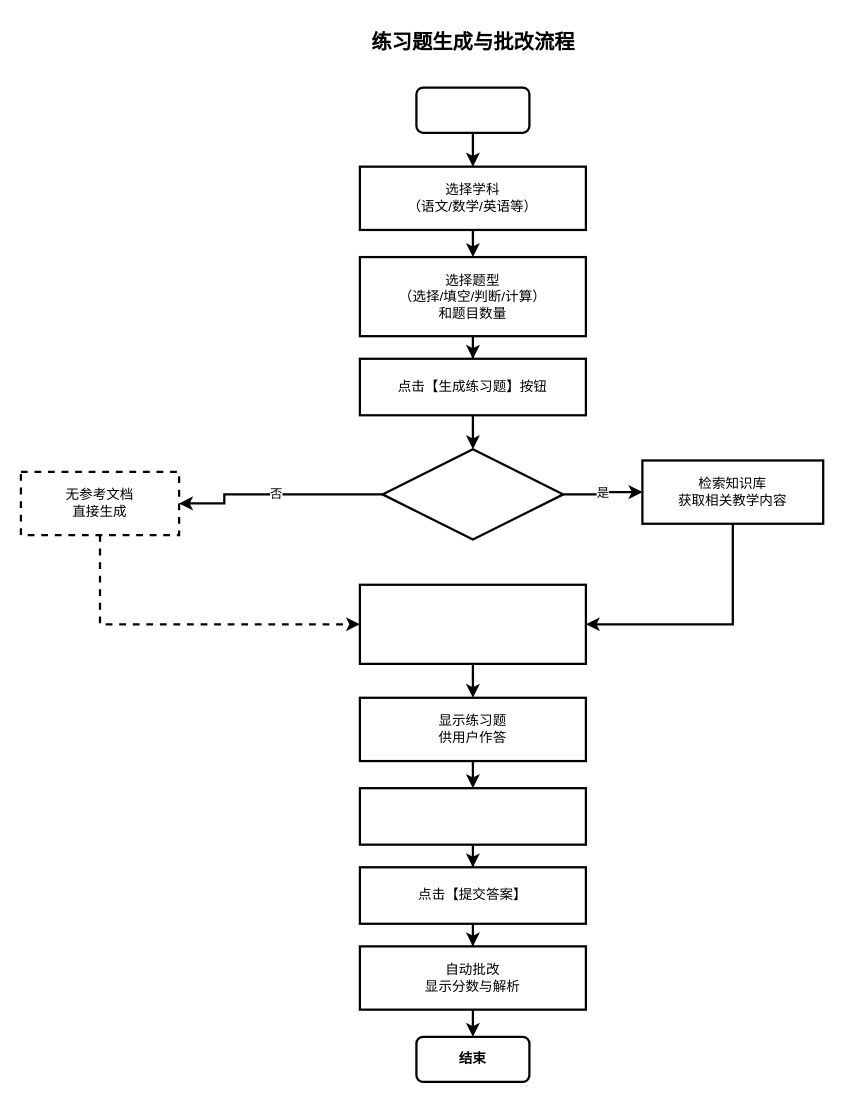
Image size: 843x1102. Some labels were removed from this diagram. Each missing label, with the centre of its shape:
ExerciseGenerator .generate_exercises() LLM 生成练习题: (x=472, y=623)
启用知识库 且有文档？: (x=472, y=493)
开始出题: (x=472, y=109)
用户作答 填写答案: (x=472, y=815)
